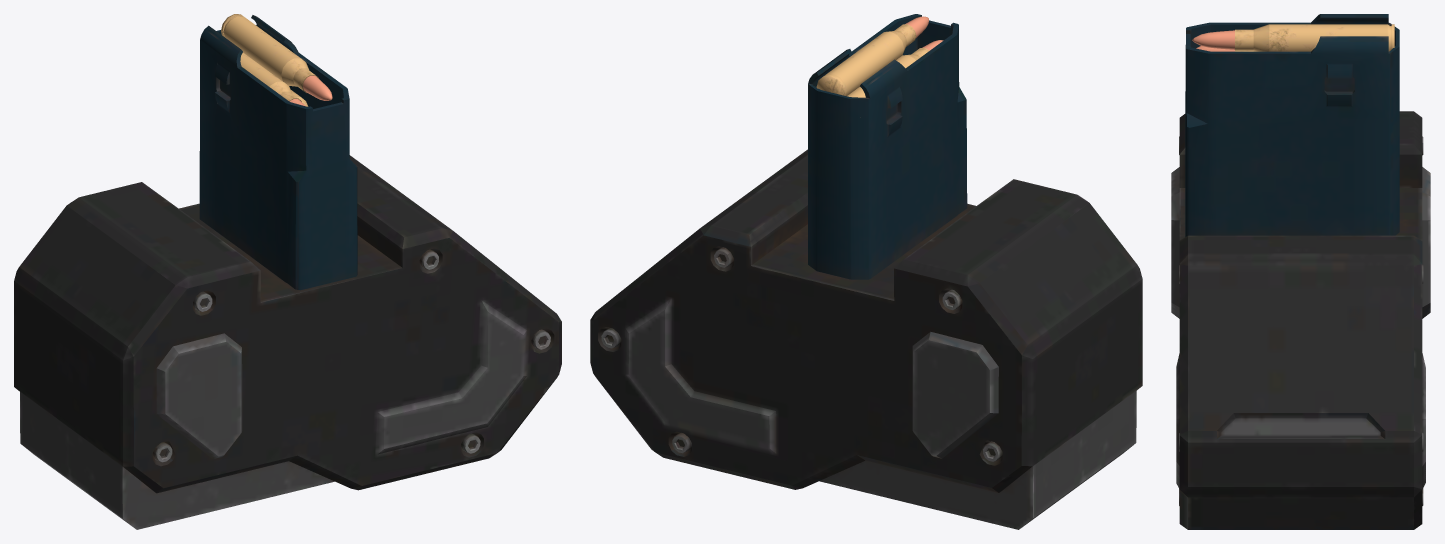
The model's file is Mag_762_60rnds_A.glb.
3 renders of one model, left to right at view 1: azimuth 30°, elevation 25°; view 2: azimuth 150°, elevation 25°; view 3: azimuth 270°, elevation 25°, orthographic. The views are drawn at different scales.
Visible parts, largest first — view 1: Mag_762_60rnds_A, Cartridge1.015, Cartridge2.015; view 2: Mag_762_60rnds_A, Cartridge1.015; view 3: Mag_762_60rnds_A, Cartridge1.015.
Boxes of the visible parts, <box> form: Mag_762_60rnds_A: <box>14,15,561,529</box>; Cartridge1.015: <box>221,14,332,100</box>; Cartridge2.015: <box>240,53,305,106</box>; Mag_762_60rnds_A: <box>590,14,1142,529</box>; Cartridge1.015: <box>816,16,928,96</box>; Mag_762_60rnds_A: <box>1171,14,1430,529</box>; Cartridge1.015: <box>1192,24,1394,51</box>.
Bounding box in the file's own units: 0.1982 × 0.1767 × 0.0976.
2 materials, 2 textured.
